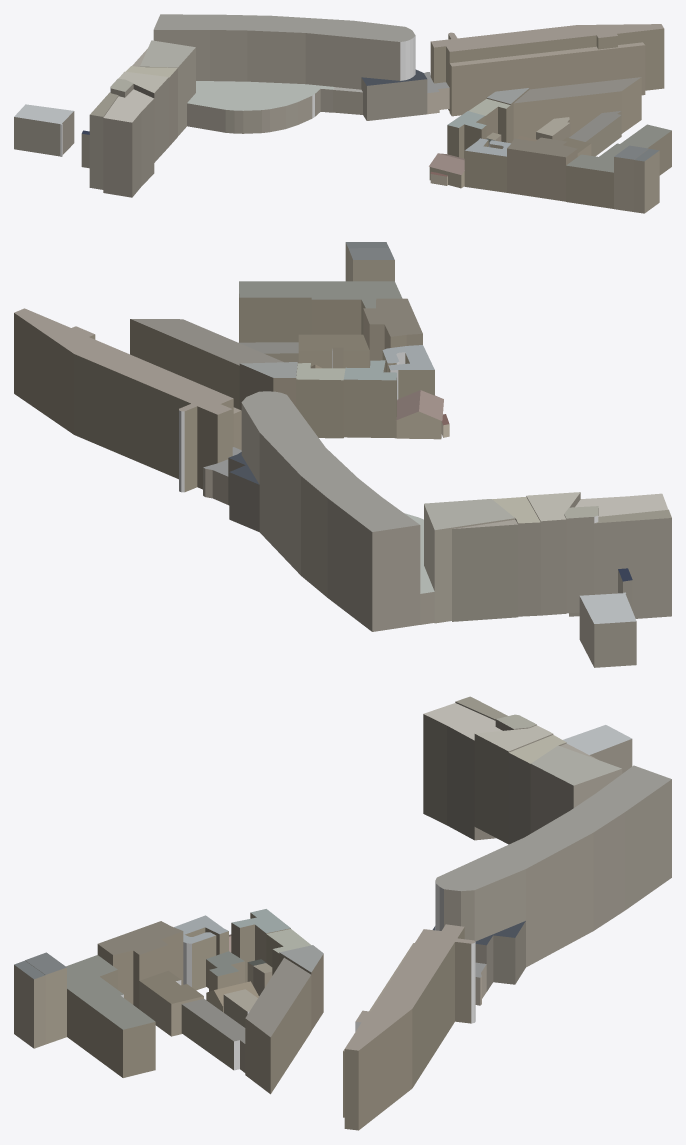
The picture shows the model from 3 angles, top to bottom: view 1: azimuth 30°, elevation 25°; view 2: azimuth 150°, elevation 25°; view 3: azimuth 270°, elevation 25°; orthographic projection. The views are drawn at different scales.
Visible parts, largest first — view 1: tuile; view 2: tuile; view 3: tuile.
Boxes of the visible parts, x1,y1,x2,y2 form: tuile: [14, 14, 671, 213]; tuile: [14, 242, 671, 667]; tuile: [14, 696, 671, 1130].
Size of the model in its own units: 302 by 44.33 by 233.
